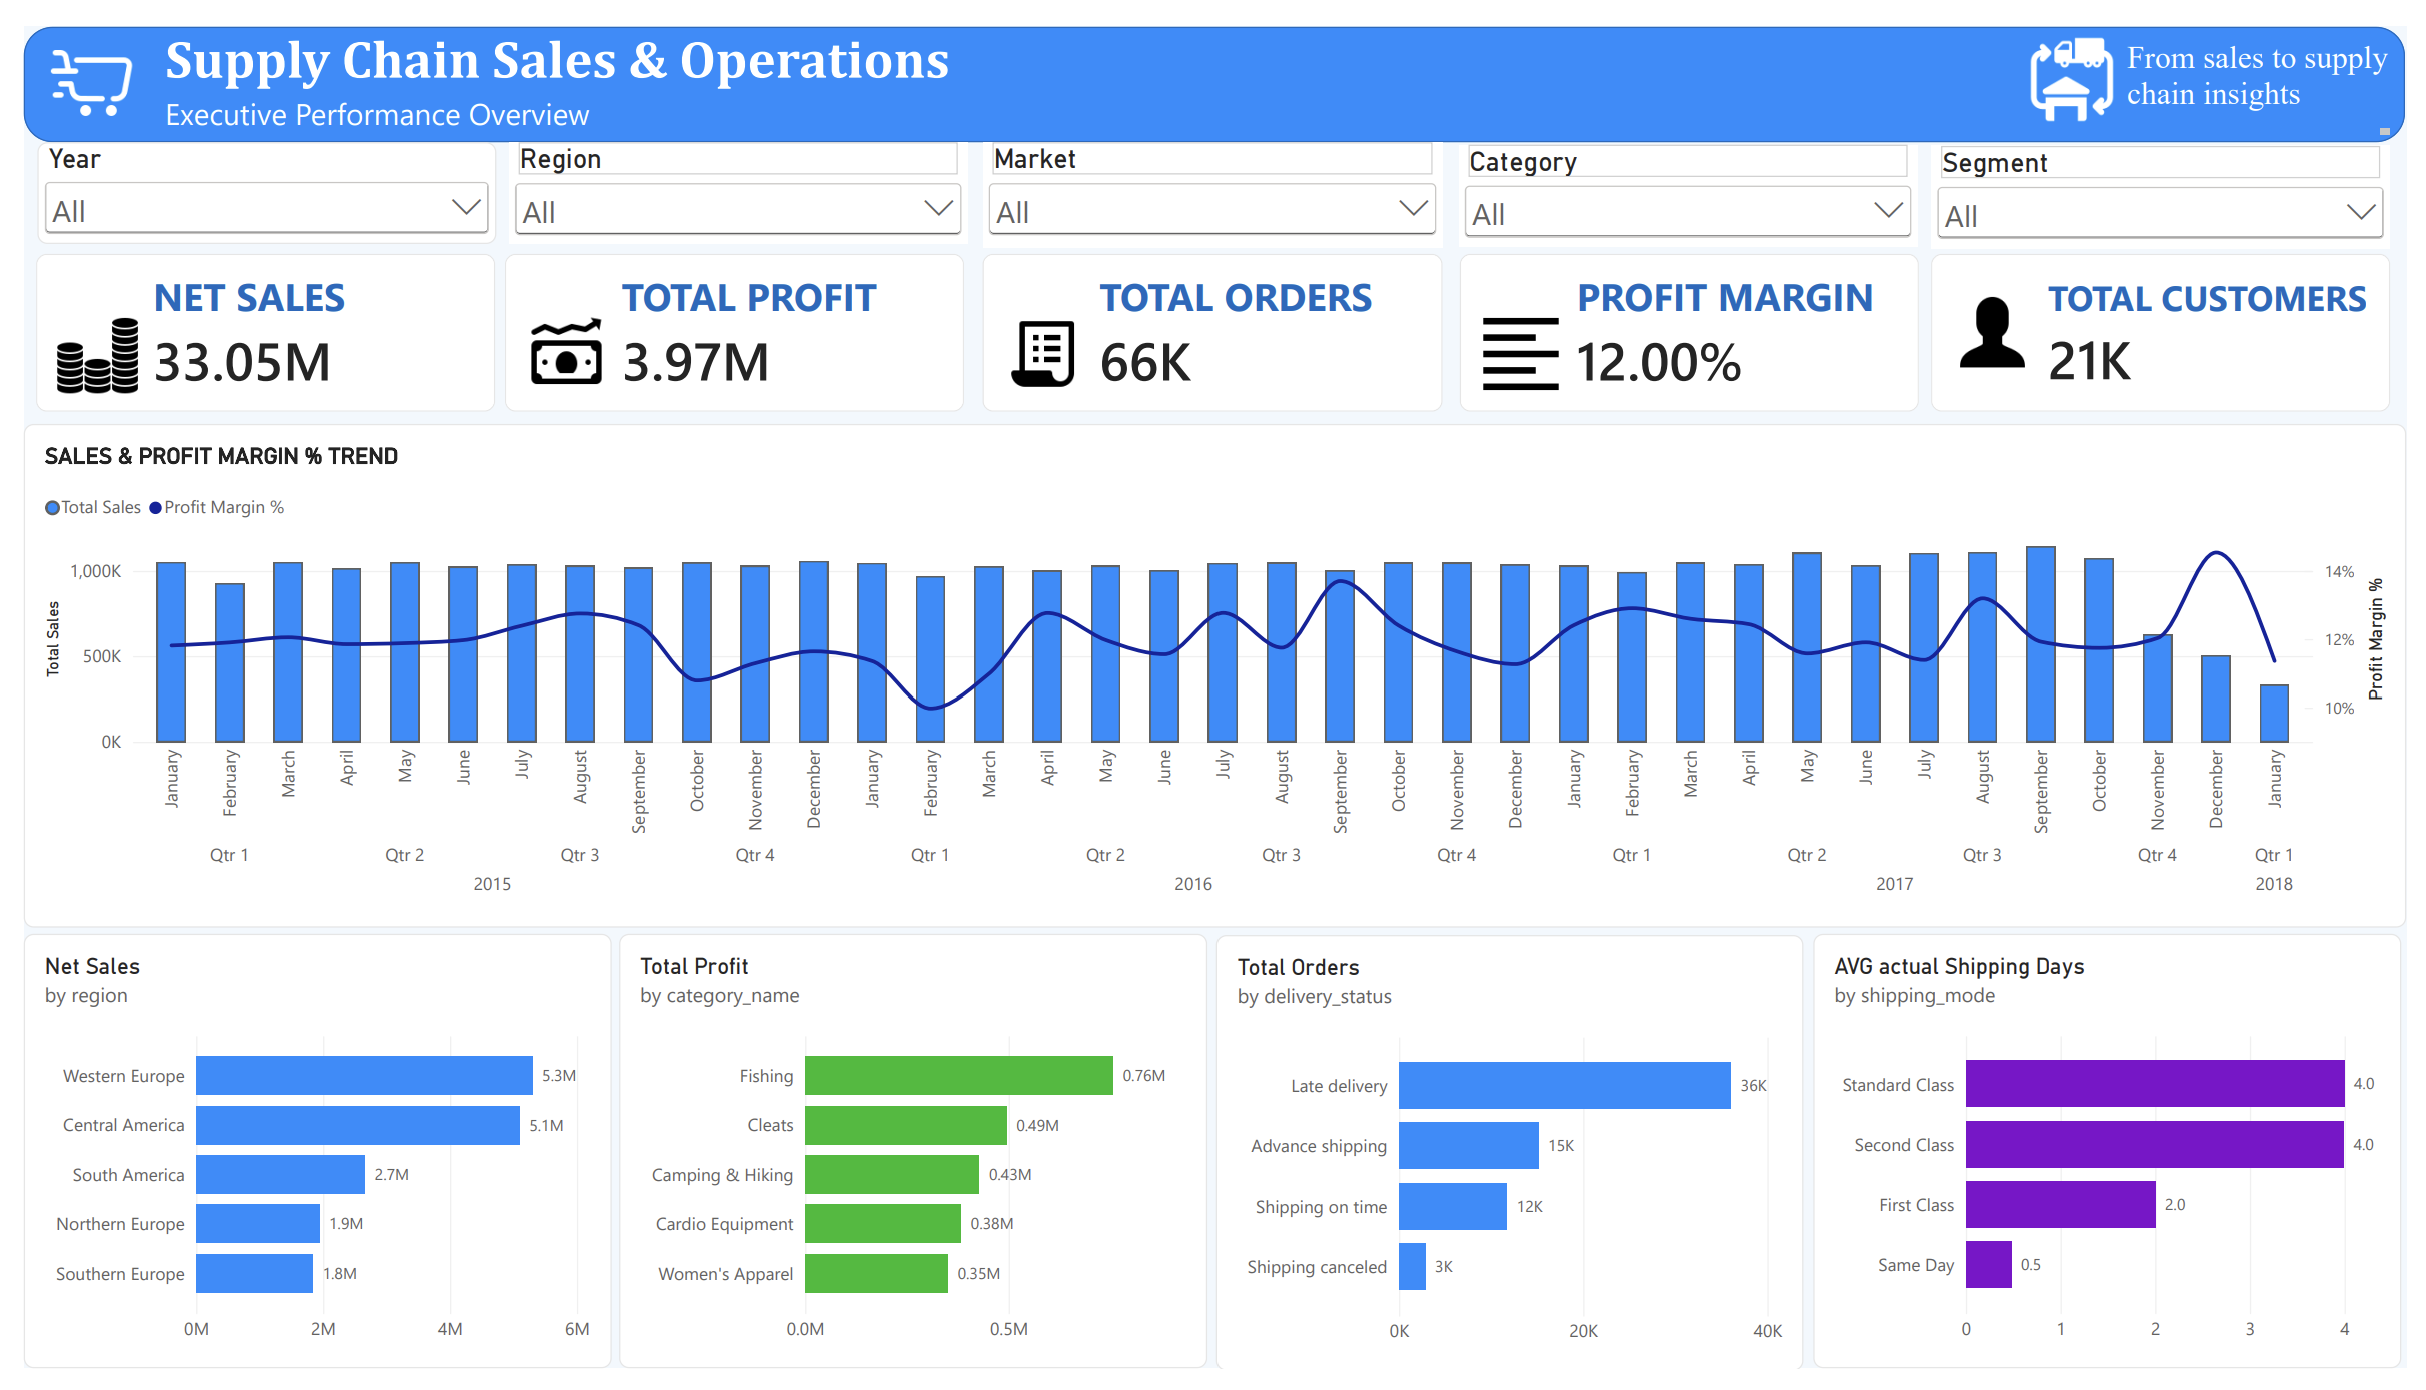

The dashboard page shown, as its layout file describes it:
{"tool":"powerbi","page":{"name":"Executive Overview","canvas":[1920,1080],"ordinal":0},"visuals":[{"type":"shape","box":[0,0,1919.3,93],"z":0},{"type":"textbox","title":"Supply Chain Sales & Operations","box":[114.3,0,644.5,112.8],"z":1000},{"type":"slicer","fields":{"Values":["dim_date.year_number"]},"box":[10.5,93,370.2,82.5],"z":2000},{"type":"slicer","fields":{"Values":["dim_order_locations.region"]},"box":[391.2,93,370.2,82.5],"z":3000},{"type":"slicer","fields":{"Values":["dim_order_locations.market"]},"box":[773.3,93.3,370,85],"z":4000},{"type":"slicer","fields":{"Values":["dim_products.category_name"]},"box":[1156.1,94.7,370.2,82.5],"z":5000},{"type":"slicer","fields":{"Values":["dim_customers.segment"]},"box":[1536.8,96.5,370.2,82.5],"z":6000},{"type":"barChart","fields":{"Y":["_Measures.Net Sales"],"Category":["dim_order_locations.region"]},"box":[0,730,474,350],"z":7000},{"type":"barChart","fields":{"Y":["_Measures.Total Profit"],"Category":["dim_products.category_name"]},"box":[480,730,474,350],"z":8000},{"type":"barChart","fields":{"Category":["fact_order_items.delivery_status"],"Y":["_Measures.Total Orders"]},"box":[961.4,730.5,472.8,351],"z":9000},{"type":"barChart","fields":{"Y":["_Measures.AVG actual Shipping Days"],"Category":["fact_order_items.shipping_mode"]},"box":[1442,730,474,350],"z":10000},{"type":"lineStackedColumnComboChart","title":"SALES & PROFIT MARGIN % TREND","fields":{"Category":["dim_date.calendar_date.Variation.Date Hierarchy.Year","dim_date.calendar_date.Variation.Date Hierarchy.Quarter","dim_date.calendar_date.Variation.Date Hierarchy.Month"],"Y":["_Measures.Total Sales"],"Y2":["_Measures.Profit Margin %"]},"box":[0,320,1920,405],"z":11000},{"type":"cardVisual","fields":{"Data":["_Measures.Net Sales"]},"box":[10,183.3,370,126.7],"z":12000},{"type":"cardVisual","fields":{"Data":["_Measures.Total Profit"]},"box":[388.3,183.3,370,126.7],"z":13000},{"type":"cardVisual","fields":{"Data":["_Measures.Total Orders"]},"box":[773.3,183.3,370,126.7],"z":14000},{"type":"cardVisual","fields":{"Data":["_Measures.Profit Margin %"]},"box":[1156.7,183.3,370,126.7],"z":15000},{"type":"cardVisual","fields":{"Data":["_Measures.Total Customers"]},"box":[1536.7,183.3,370,126.7],"z":16000},{"type":"image","box":[10.2,10.2,92.1,70],"z":17000},{"type":"group","id":"g1","title":"Group 1","box":[1605.5,5.1,302,81.9],"z":18000},{"type":"image","box":[1605.5,5.1,90.4,75.1],"z":18000,"group":"g1"},{"type":"textbox","title":"From sales to supply chain insights","box":[1695.9,10.2,211.6,76.8],"z":19000,"group":"g1"}]}

Visuals, with their boxes in screenshot pixels (x1, y1, x2, y2), scaled from the page's 1920x1080 canvas onto the 2426x1390 screenshot:
shape: (0,0,2425,120)
"Supply Chain Sales & Operations" textbox: (144,0,959,145)
slicer - dim_date.year_number: (13,120,481,226)
slicer - dim_order_locations.region: (494,120,962,226)
slicer - dim_order_locations.market: (977,120,1445,229)
slicer - dim_products.category_name: (1461,122,1929,228)
slicer - dim_customers.segment: (1942,124,2410,230)
barChart - _Measures.Net Sales x dim_order_locations.region: (0,940,599,1389)
barChart - _Measures.Total Profit x dim_products.category_name: (606,940,1205,1389)
barChart - fact_order_items.delivery_status x _Measures.Total Orders: (1215,940,1812,1389)
barChart - _Measures.AVG actual Shipping Days x fact_order_items.shipping_mode: (1822,940,2421,1389)
"SALES & PROFIT MARGIN % TREND" lineStackedColumnComboChart: (0,412,2425,933)
cardVisual - _Measures.Net Sales: (13,236,480,399)
cardVisual - _Measures.Total Profit: (491,236,958,399)
cardVisual - _Measures.Total Orders: (977,236,1445,399)
cardVisual - _Measures.Profit Margin %: (1462,236,1929,399)
cardVisual - _Measures.Total Customers: (1942,236,2409,399)
image: (13,13,129,103)
"Group 1" group: (2029,7,2410,112)
image: (2029,7,2143,103)
"From sales to supply chain insights" textbox: (2143,13,2410,112)
